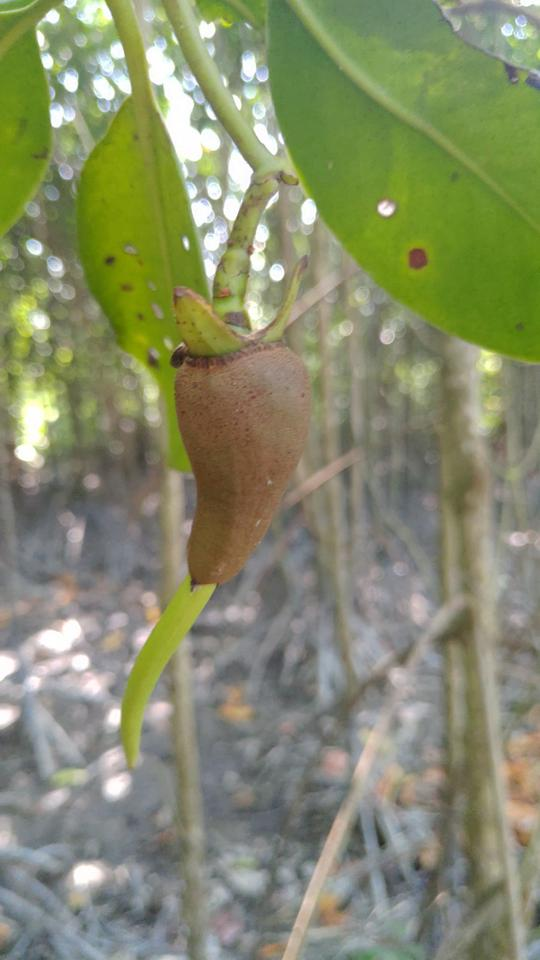mentah: (115, 259, 348, 789)
